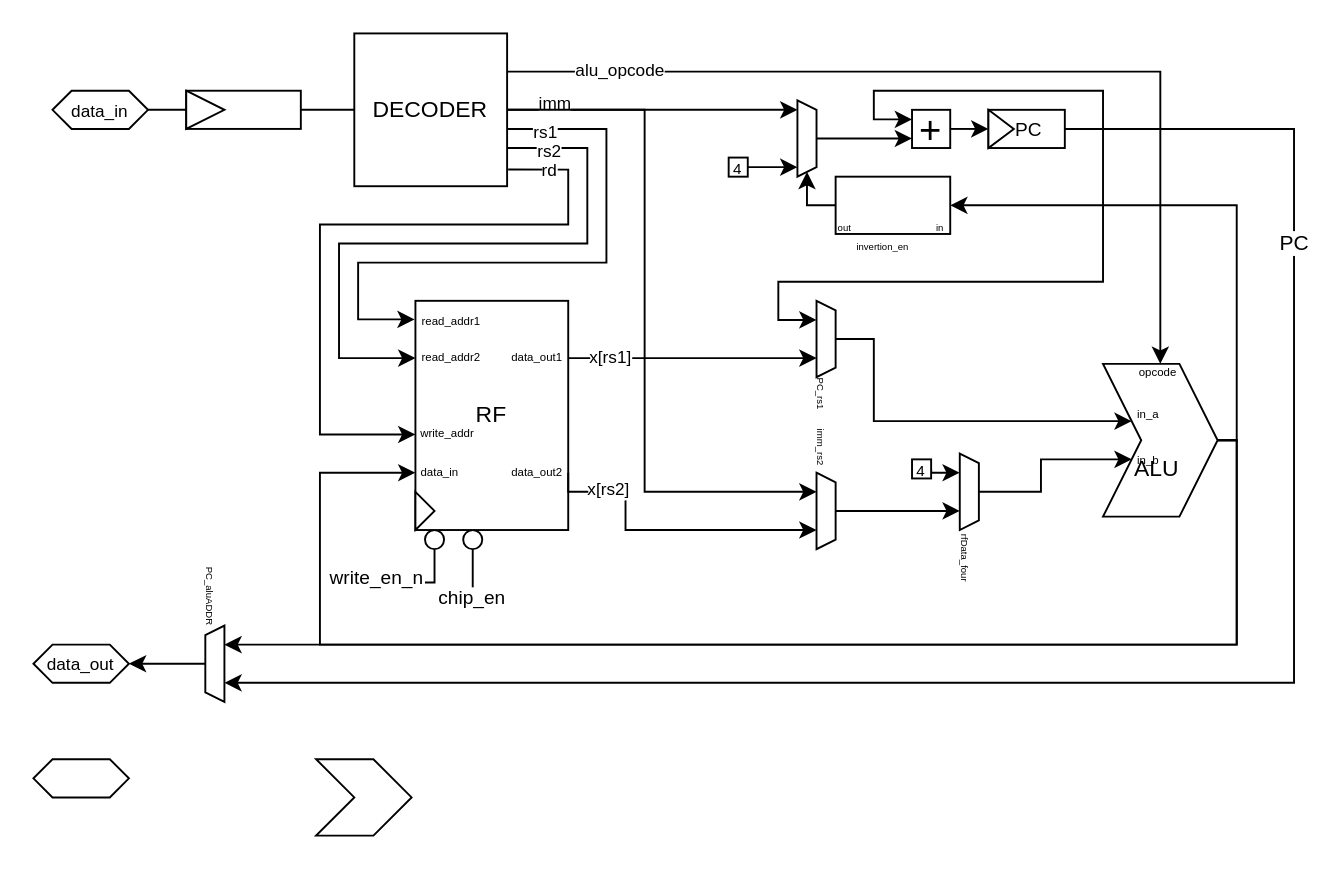
Some shapes in this 1343 by 869 pixel diagram are drawn without their labels. Here are the shapes that lost their labels. From the top down, the box of each, then its label:
(184, 89, 301, 129): IR
(834, 175, 950, 234): Selective Negator
(32, 757, 129, 797): write_en
